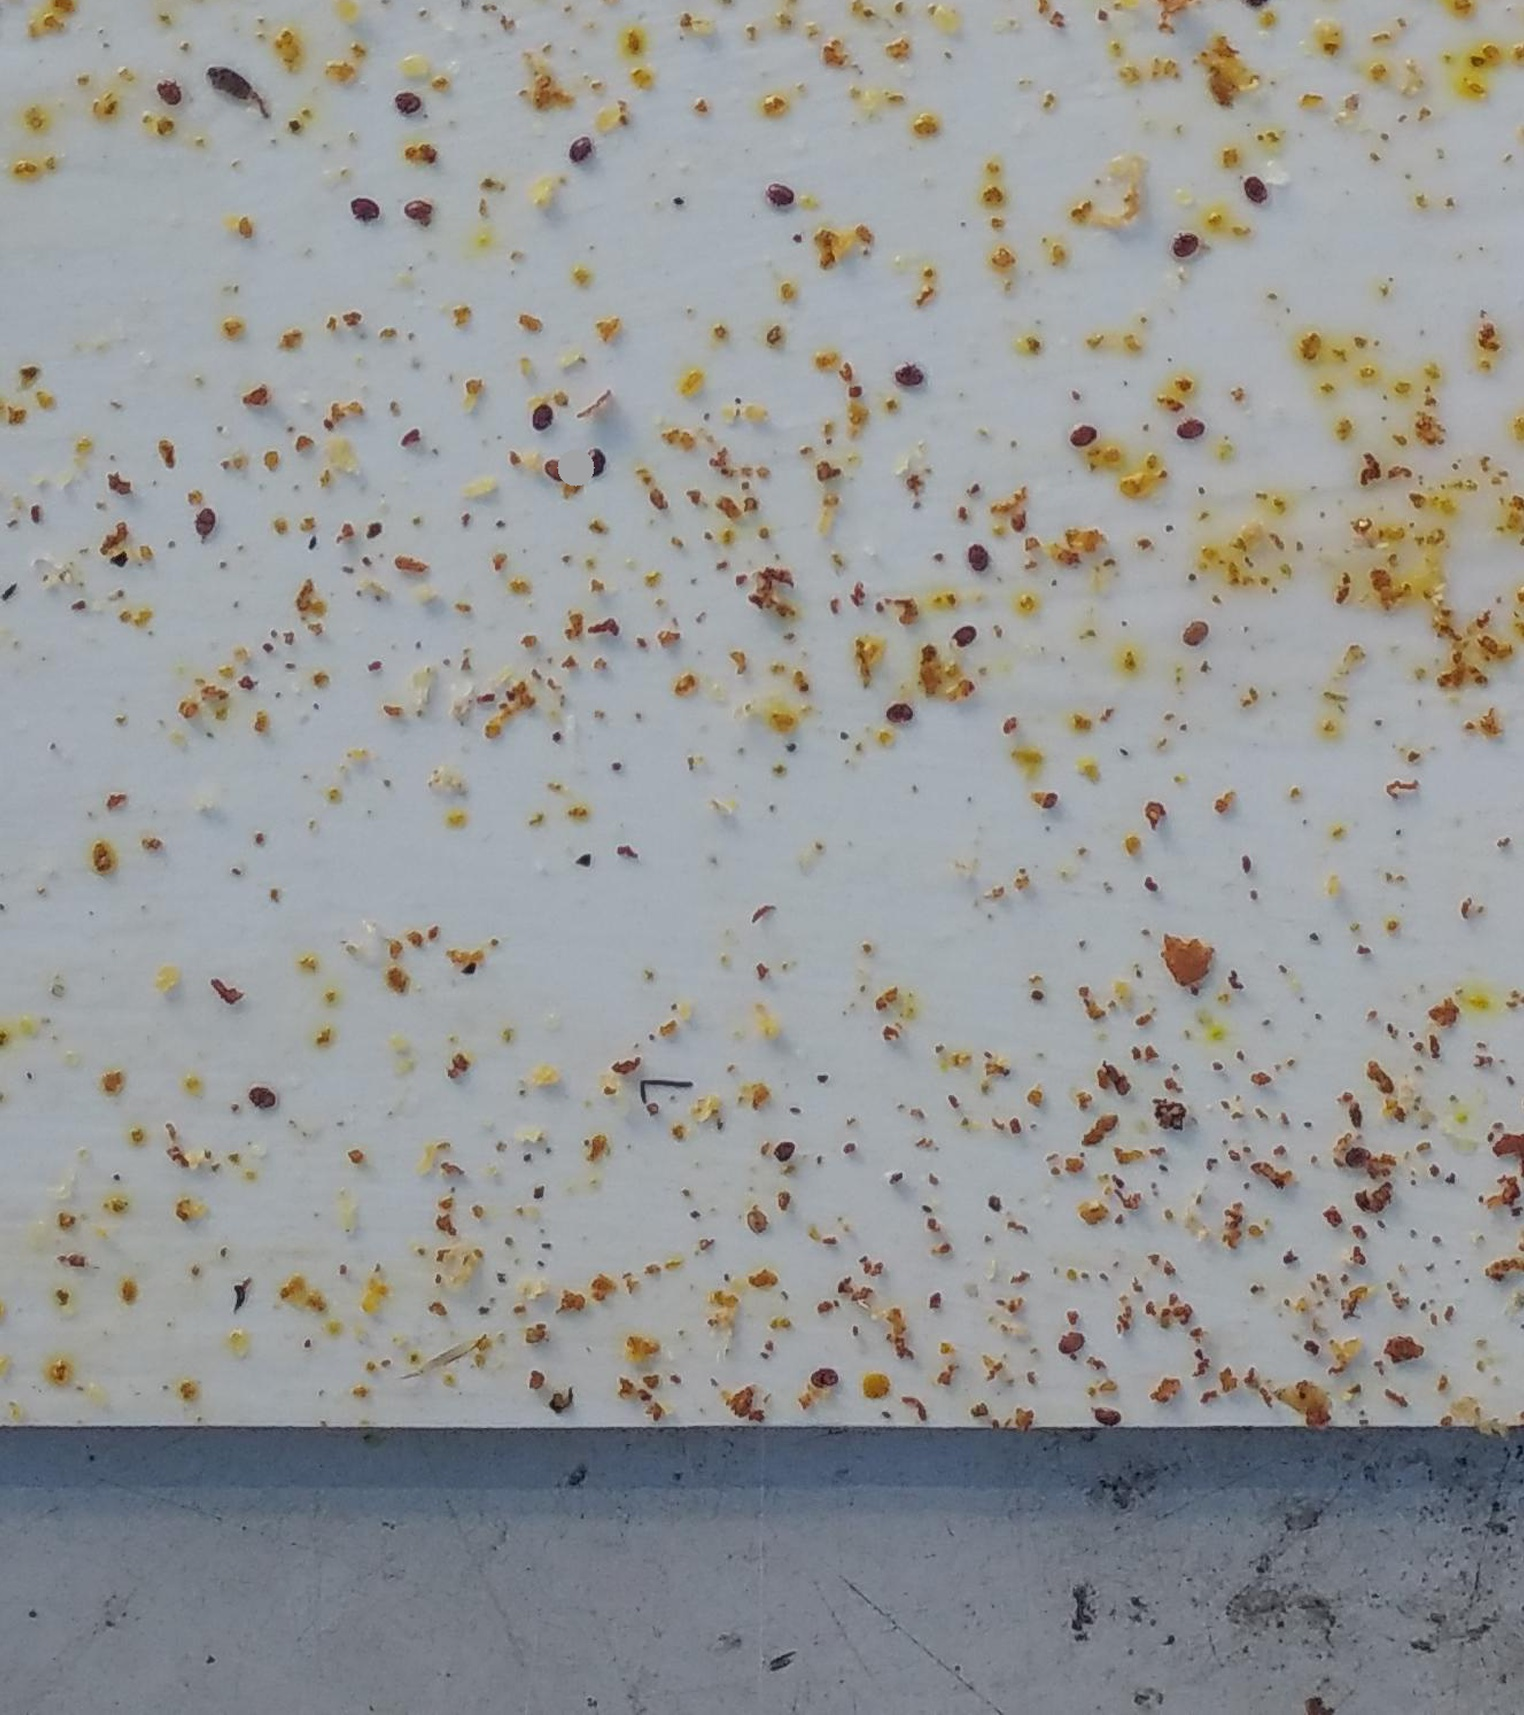Varroa: (516, 399, 552, 432), (1093, 1394, 1125, 1430), (765, 179, 797, 213), (402, 193, 434, 227), (352, 193, 384, 225), (393, 90, 425, 122), (540, 453, 571, 485), (1342, 1141, 1372, 1174), (193, 506, 224, 537), (899, 360, 928, 393), (813, 1365, 843, 1396), (1169, 229, 1200, 259), (741, 1200, 772, 1230), (772, 1140, 802, 1169), (1058, 1333, 1087, 1362), (950, 624, 980, 653), (886, 702, 914, 732), (961, 549, 989, 580), (1242, 174, 1270, 203), (246, 1084, 274, 1113), (1183, 410, 1211, 440), (1067, 419, 1094, 449), (581, 447, 609, 477), (1183, 616, 1209, 646), (568, 137, 594, 165), (538, 410, 565, 438), (159, 79, 185, 106)
